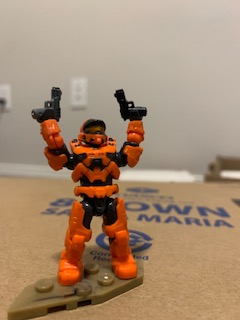pistol: (30, 84, 65, 126), (110, 86, 152, 121)
spartan: (36, 115, 151, 288)
up: (35, 110, 147, 185)
